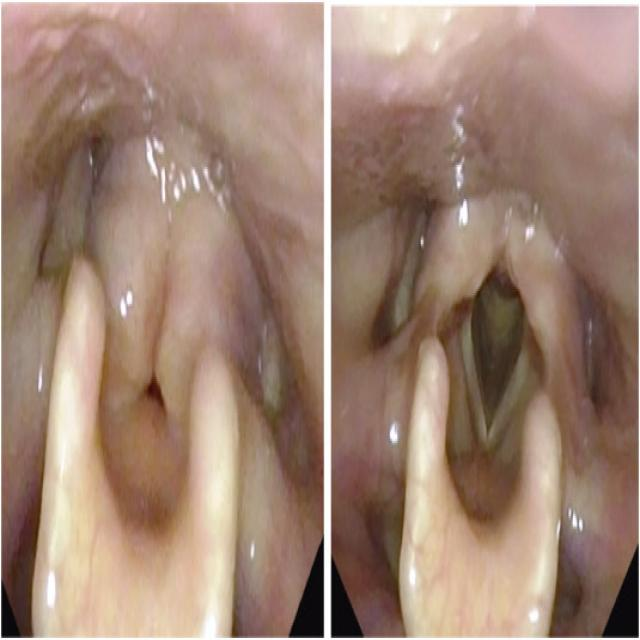arytenoid cartilagerotation: (88, 167, 245, 399), (410, 191, 584, 392)
epiglottisrotation: (28, 248, 238, 636), (395, 330, 562, 634)
larynxrotation: (459, 255, 533, 452)
